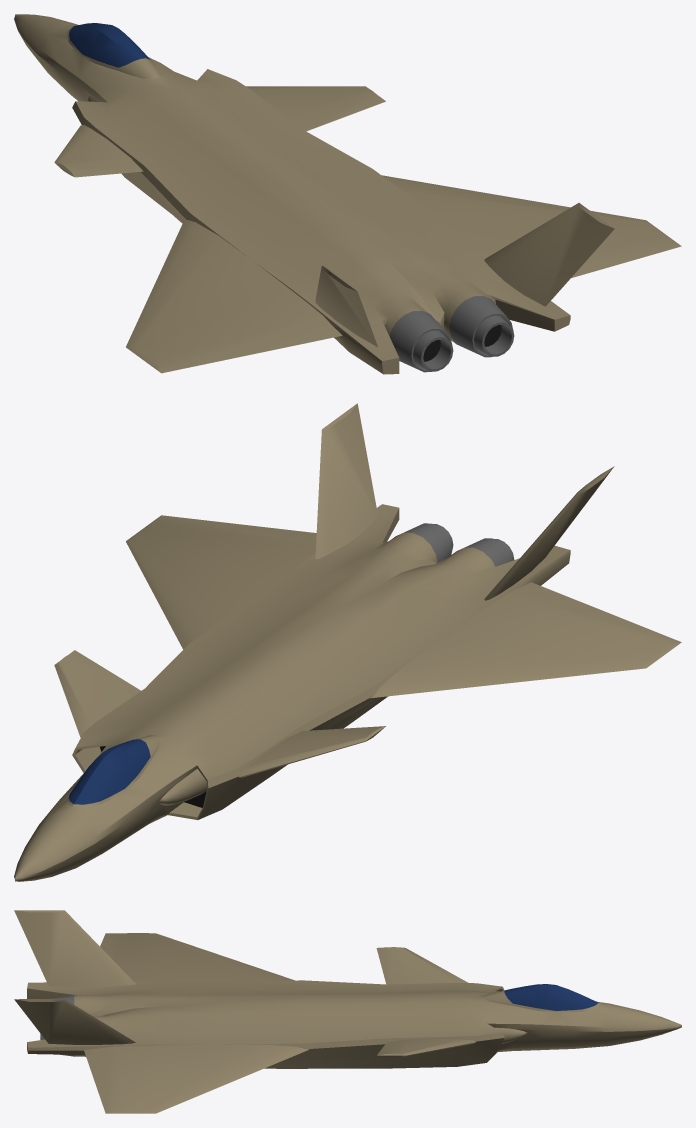
File: CHENGDU_J_20.glb
3 renders of one model, top to bottom at view 1: azimuth 30°, elevation 25°; view 2: azimuth 150°, elevation 25°; view 3: azimuth 270°, elevation 25°, orthographic. The views are drawn at different scales.
Visible parts, largest first — view 1: Chengdu_J_20; view 2: Chengdu_J_20; view 3: Chengdu_J_20.
Boxes of the visible parts, x1=… form: Chengdu_J_20: x1=14, y1=14, x2=681, y2=374; Chengdu_J_20: x1=14, y1=403, x2=681, y2=881; Chengdu_J_20: x1=14, y1=910, x2=681, y2=1113.
Bounding box in the file's own units: 13.02 × 3.27 × 20.4.
